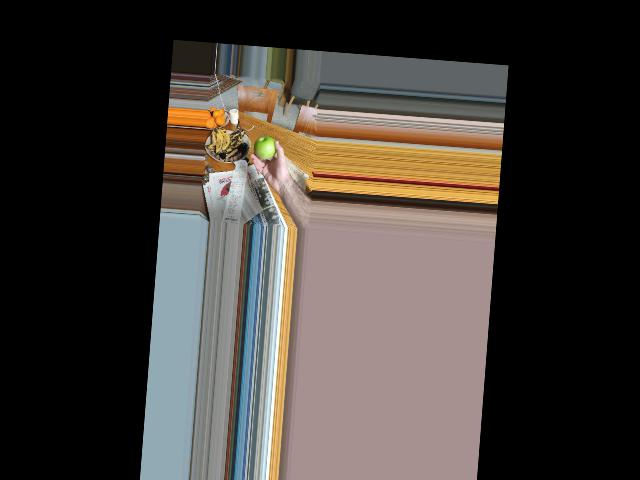apple: (254, 134, 277, 159)
